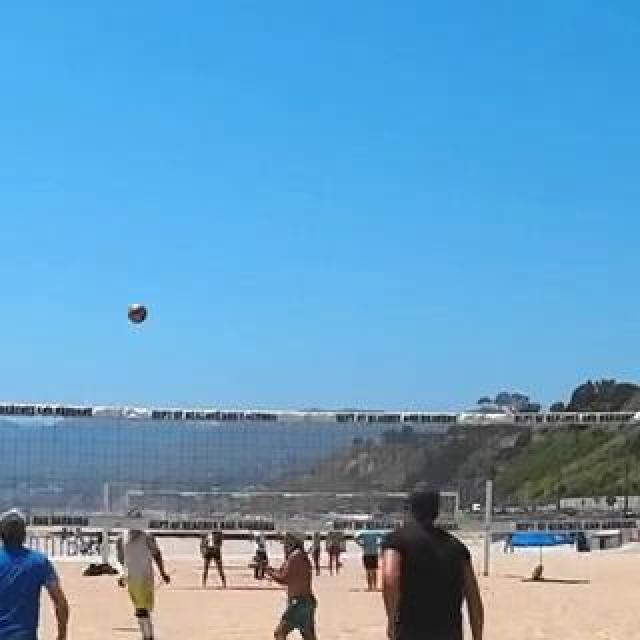volleyball: (128, 305, 148, 323)
